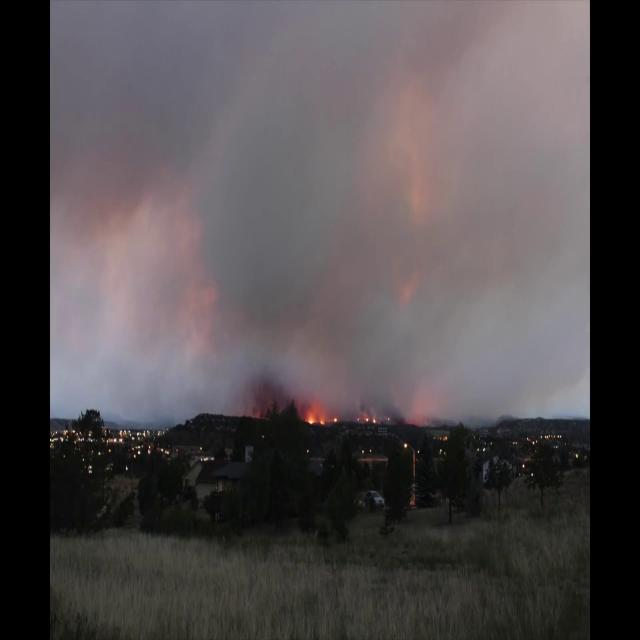Fire: (306, 416, 324, 424), (365, 415, 377, 424), (332, 418, 337, 422)
